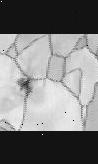good_void: (16, 74, 32, 97)
